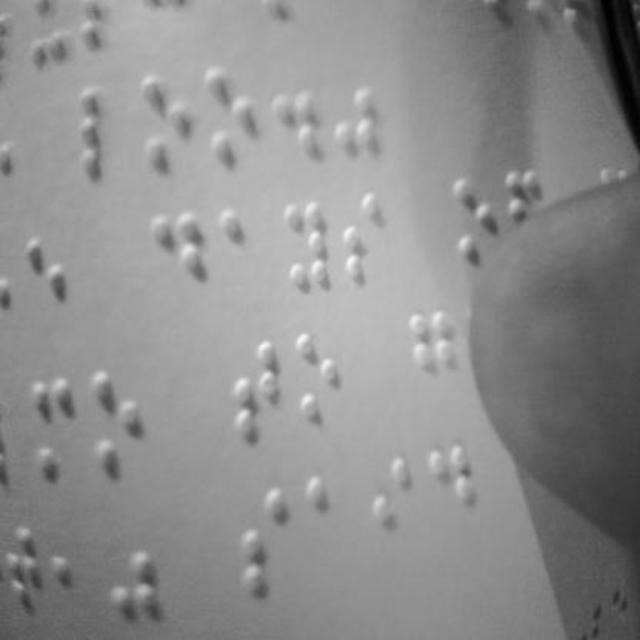braiile: (86, 362, 150, 482), (232, 479, 292, 595), (423, 438, 481, 558), (404, 300, 464, 416), (360, 450, 416, 574), (26, 225, 82, 348), (148, 203, 208, 315), (288, 320, 348, 430), (277, 185, 335, 298), (302, 462, 358, 578), (338, 178, 392, 292), (75, 80, 135, 180), (226, 335, 282, 441), (138, 76, 196, 178), (204, 62, 258, 168), (218, 200, 270, 310), (28, 371, 78, 483), (454, 164, 510, 264)
